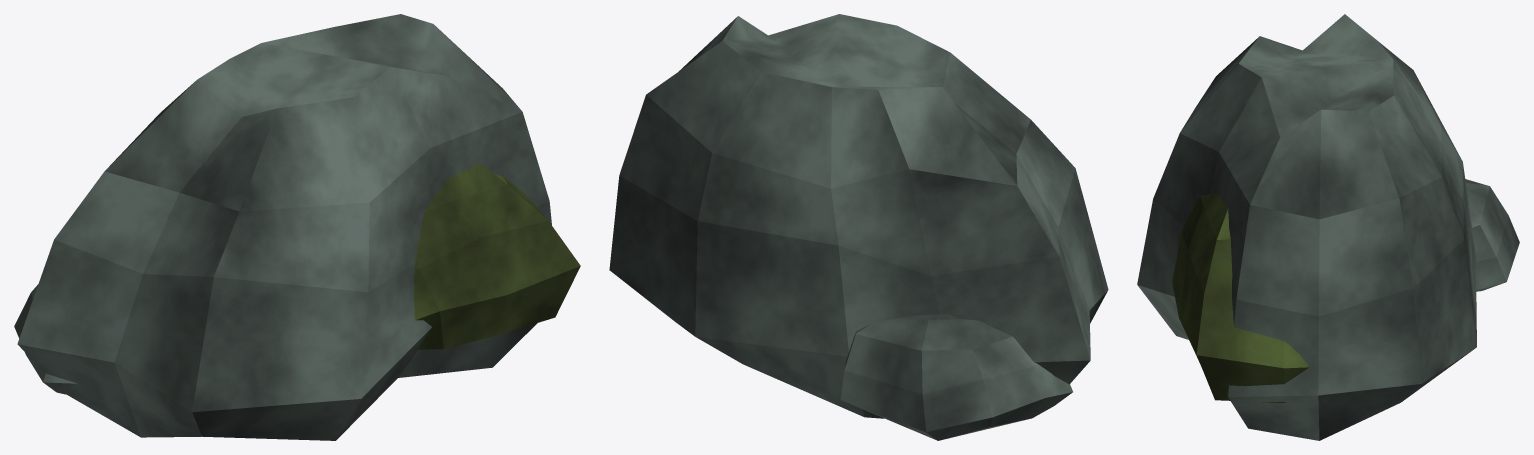
The model's file is rock1.glb.
3 renders of one model, left to right at view 1: azimuth 30°, elevation 25°; view 2: azimuth 150°, elevation 25°; view 3: azimuth 270°, elevation 25°, orthographic. The views are drawn at different scales.
Visible parts, largest first — view 1: rock1; view 2: rock1; view 3: rock1.
Boxes of the visible parts, bbox=[...] form: rock1: bbox=[14, 14, 580, 440]; rock1: bbox=[609, 14, 1108, 440]; rock1: bbox=[1137, 14, 1519, 440].
Size of the model in its own units: 2.5 by 1.59 by 1.76.
Materials: 2 (2 with a texture image).
